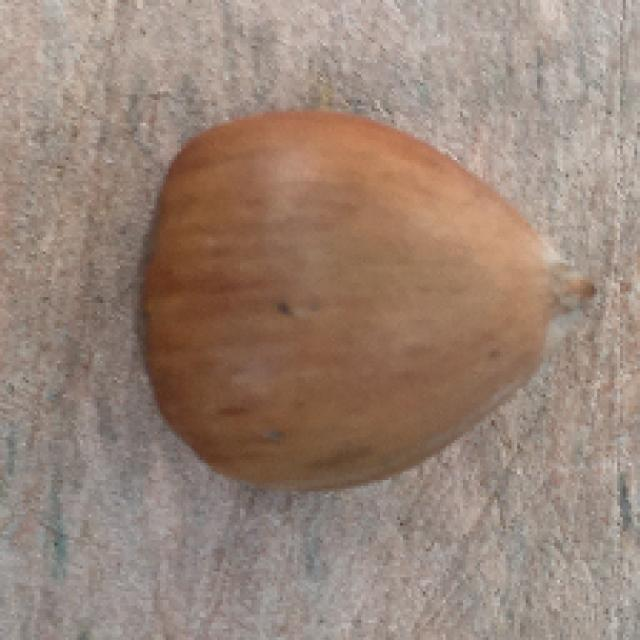qualityHazelnut: (130, 119, 595, 494)
